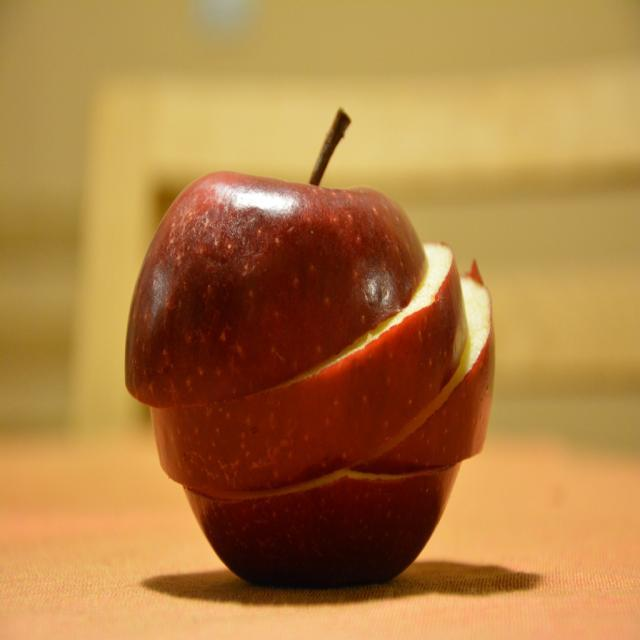Apple pie: (122, 139, 490, 599)
